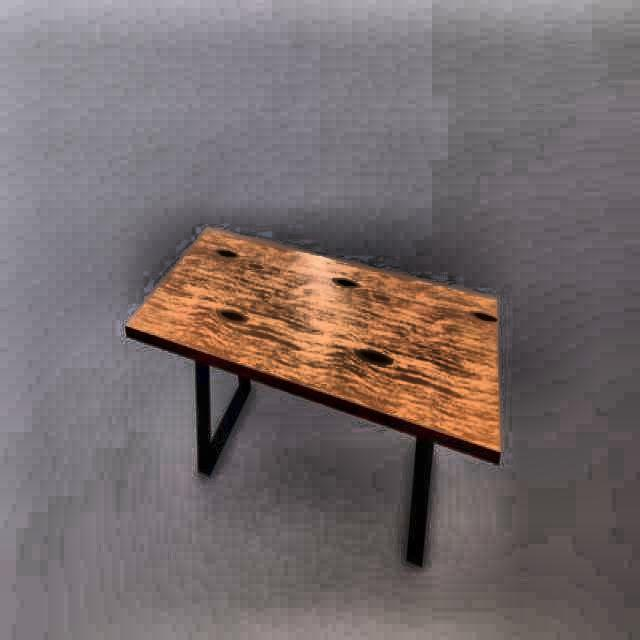mesa: (126, 223, 504, 570)
